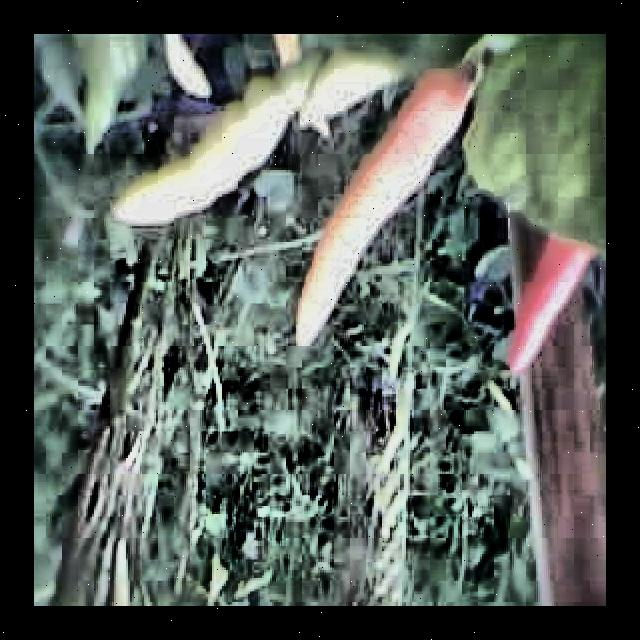Cabai: (287, 66, 482, 349), (514, 237, 591, 384)
